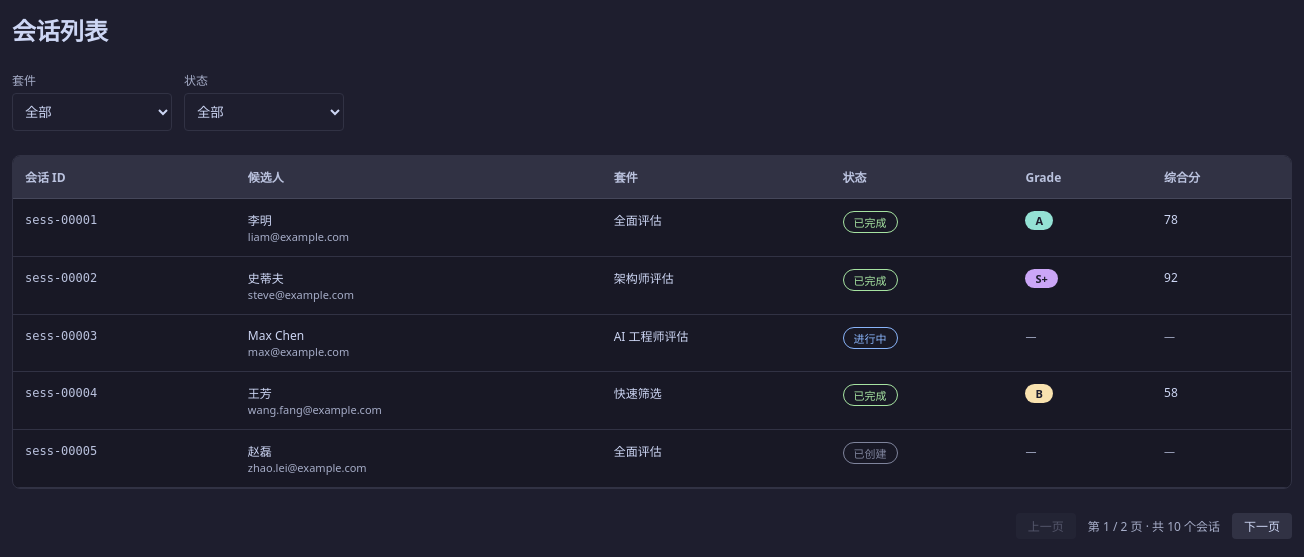
Test: <AdminSessionsListPage /> › paginates when total exceeds page size
Expected: the element with test id "admin-sessions-pager" is shown, [1016,513,1292,539]
Expected: the text with test id "admin-sessions-page-label" shows "第 1", [1088,517,1220,535]
Click the button with test id "admin-sessions-next": (1262, 526) [1232,513,1292,539]
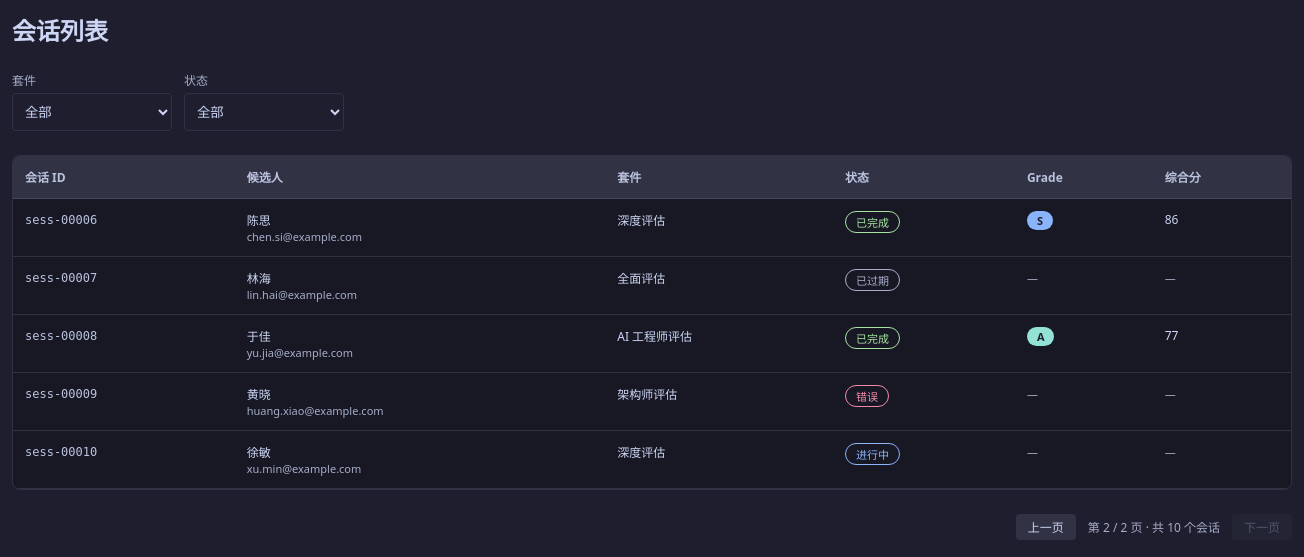
Now the text with test id "admin-sessions-page-label" shows "第 2", box [1088,518,1220,536]
